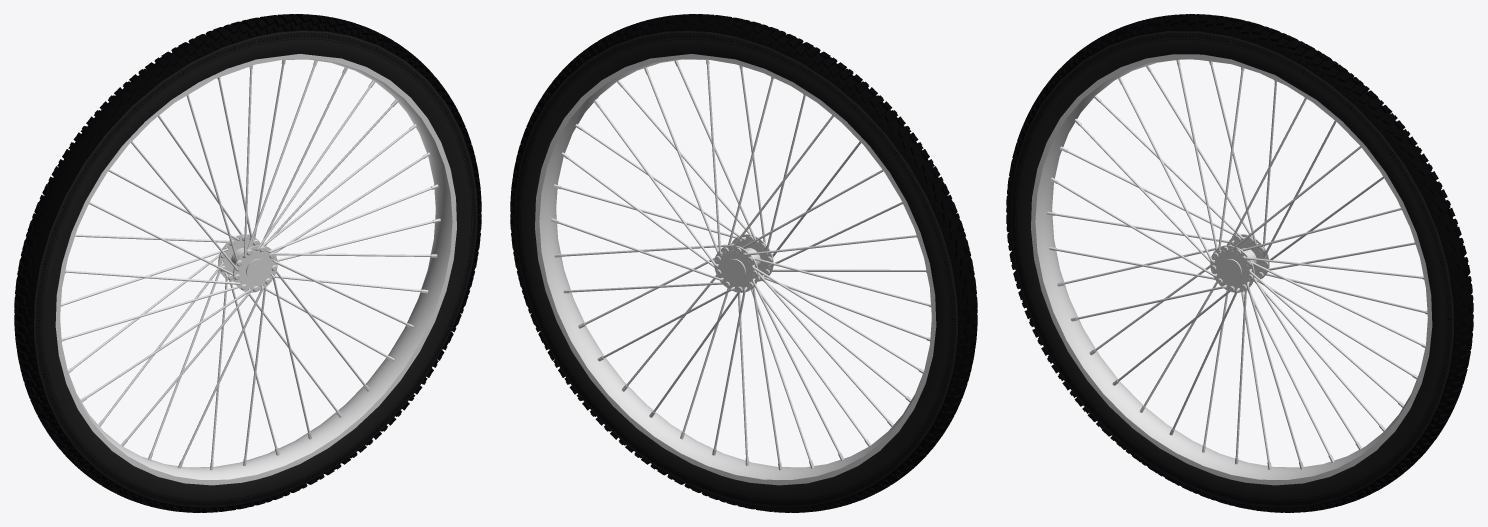
File: offroadReifen.glb
3 renders of one model, left to right at view 1: azimuth 30°, elevation 25°; view 2: azimuth 150°, elevation 25°; view 3: azimuth 330°, elevation 25°, orthographic.
Parts seen in each view (by area): view 1: Bike01\ReifenOffroad; view 2: Bike01\ReifenOffroad; view 3: Bike01\ReifenOffroad.
Boxes of the visible parts, bbox=[...] form: Bike01\ReifenOffroad: bbox=[14, 14, 481, 512]; Bike01\ReifenOffroad: bbox=[510, 14, 977, 512]; Bike01\ReifenOffroad: bbox=[1006, 14, 1473, 512].
Size of the model in its own units: 0.712 by 0.712 by 0.0505.
3 materials, 1 textured.
